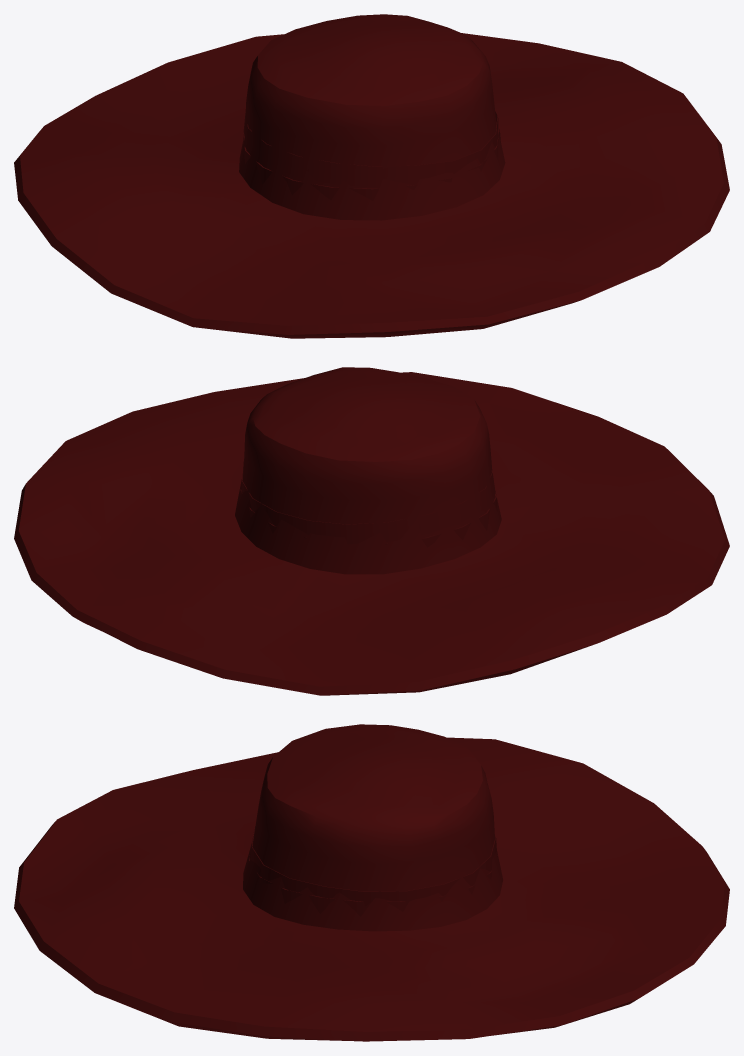
Rendered from hatLP.fbx.
The picture shows the model from 3 angles, top to bottom: view 1: azimuth 30°, elevation 25°; view 2: azimuth 150°, elevation 25°; view 3: azimuth 270°, elevation 25°; orthographic projection.
Visible parts, largest first — view 1: Circle_low; view 2: Circle_low; view 3: Circle_low.
Part boxes in pixels (x1,y1,x2,y2): Circle_low: (14,14,729,338); Circle_low: (14,367,729,695); Circle_low: (14,724,729,1041).
Bounding box in the file's own units: 199 × 48.49 × 196.
